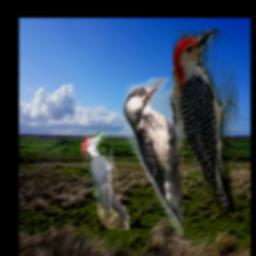Woodpecker: (174, 29, 240, 214), (124, 78, 185, 236), (81, 131, 129, 230)
